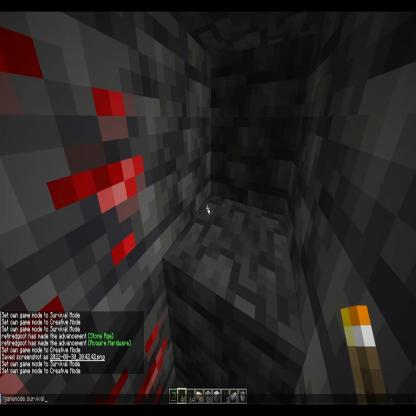redstone ore: (0, 22, 157, 416), (88, 259, 177, 416)
